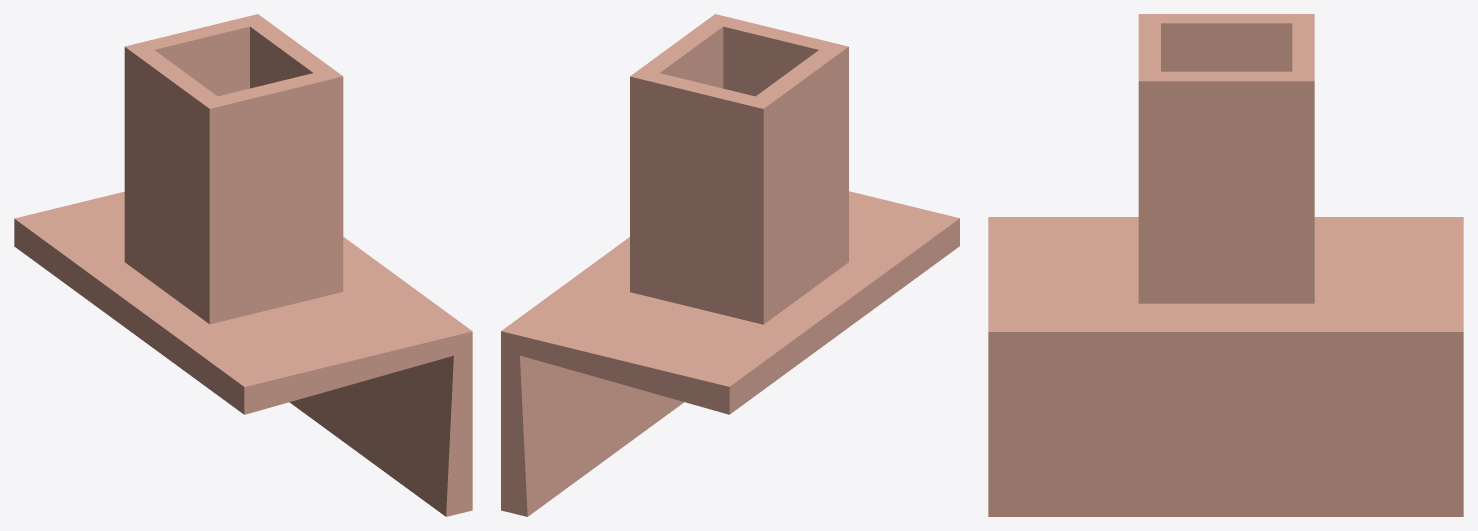
Rendered from chouyouyanji.fbx.
3 views of the same model, side by side, from view 1: azimuth 30°, elevation 25°; view 2: azimuth 150°, elevation 25°; view 3: azimuth 270°, elevation 25° (orthographic). The views are drawn at different scales.
Parts seen in each view (by area): view 1: Box013; view 2: Box013; view 3: Box013.
Boxes of the visible parts, x1,y1,x2,y2 form: Box013: (14, 14, 472, 516); Box013: (501, 14, 959, 516); Box013: (988, 14, 1463, 516).
Size of the model in its own units: 10.21 by 16.87 by 17.84.
